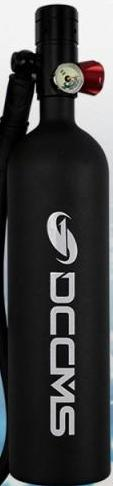cylinder: (1, 1, 113, 486)
